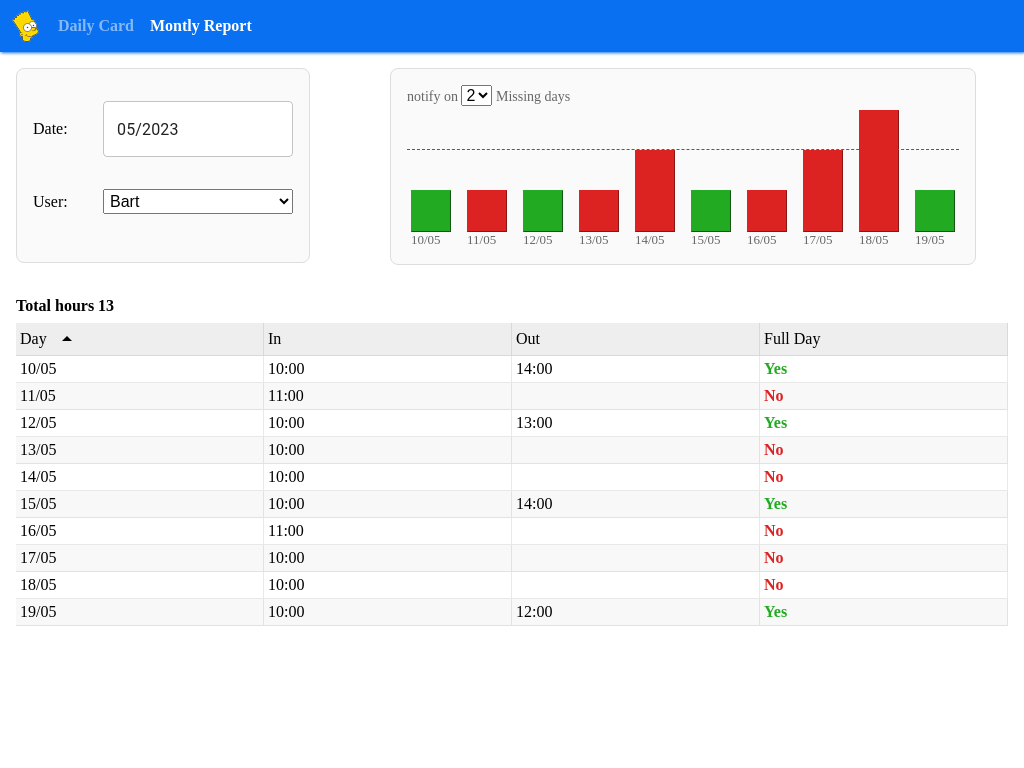
Scenario: Monthly report › click sort table data
This screenshot has width=1024, height=768.
Click the element with test id "table-header" showing "Day". click: point(140, 340)
box: [16,323,264,356]
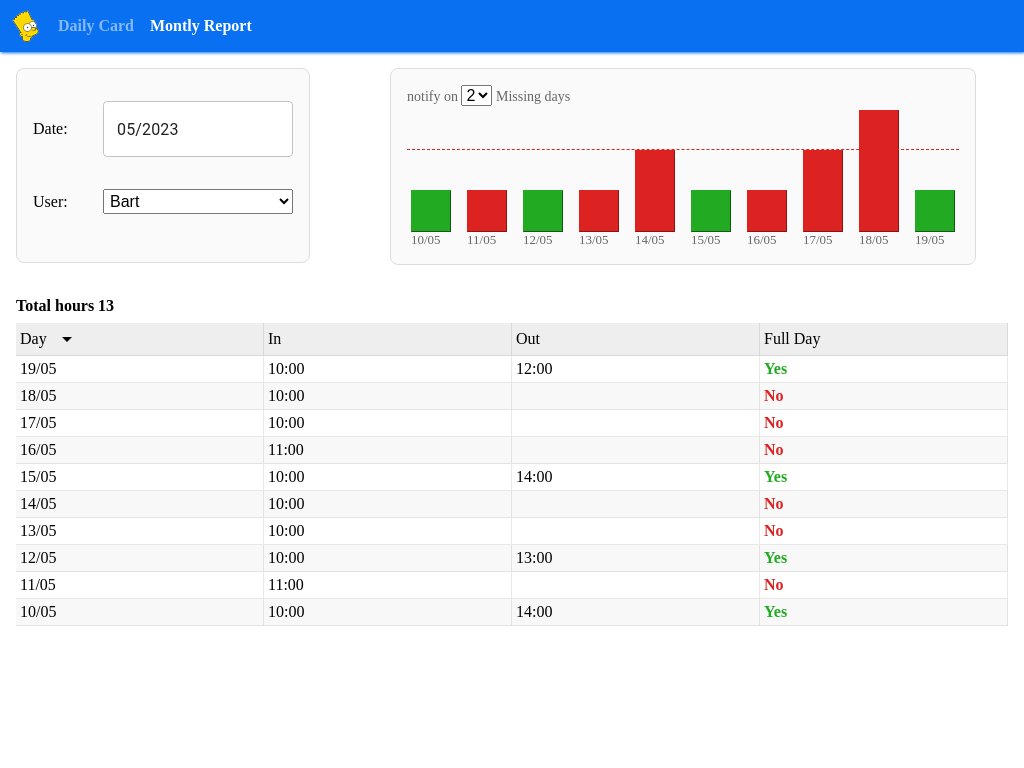
Now the text with test id "table-row" reads "19/05", box [20,360,56,377]
